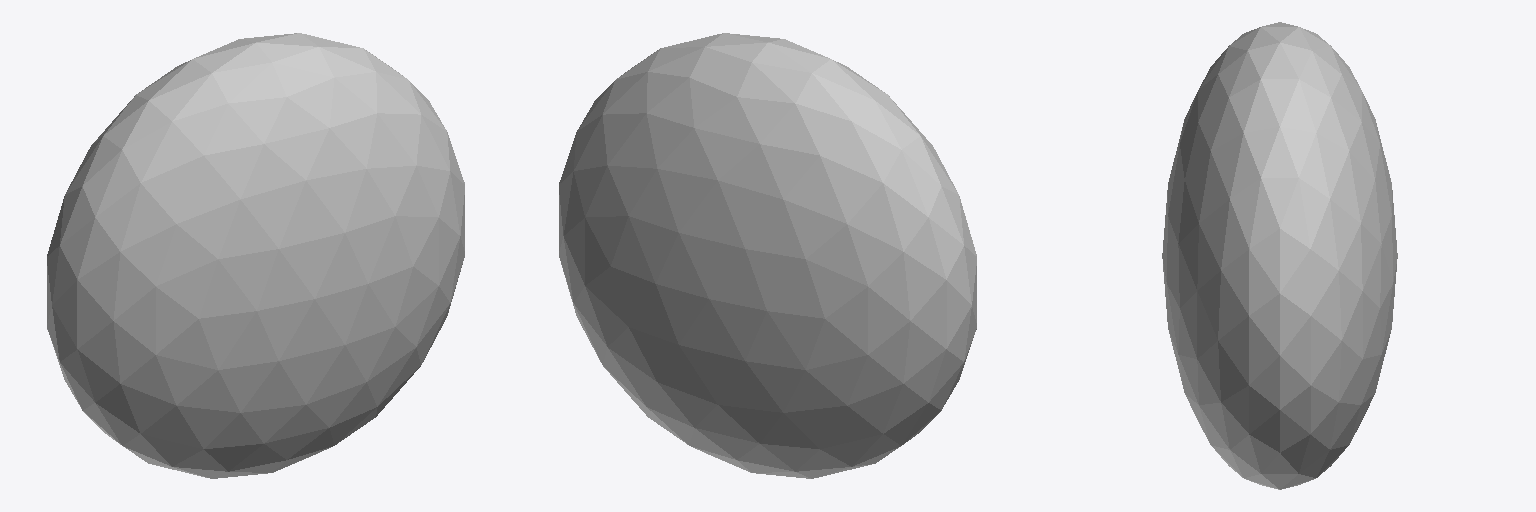
File: Orb.obj
3 renders of one model, left to right at view 1: azimuth 30°, elevation 25°; view 2: azimuth 150°, elevation 25°; view 3: azimuth 270°, elevation 25°, orthographic.
Parts seen in each view (by area): view 1: 000_Polyhedron; view 2: 000_Polyhedron; view 3: 000_Polyhedron.
Part boxes in pixels (bbox=[...]): 000_Polyhedron: bbox=[47, 33, 464, 478]; 000_Polyhedron: bbox=[559, 33, 976, 478]; 000_Polyhedron: bbox=[1162, 22, 1397, 489].
Bounding box in the file's own units: 100 × 100 × 50.